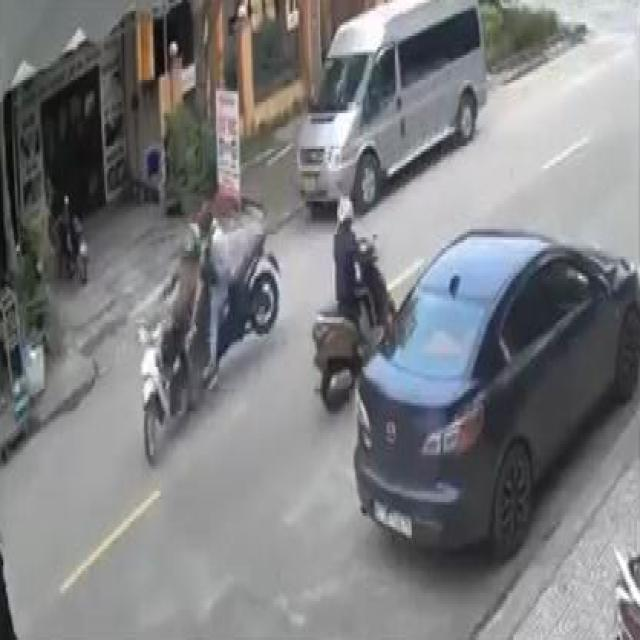accident: (130, 186, 286, 478)
